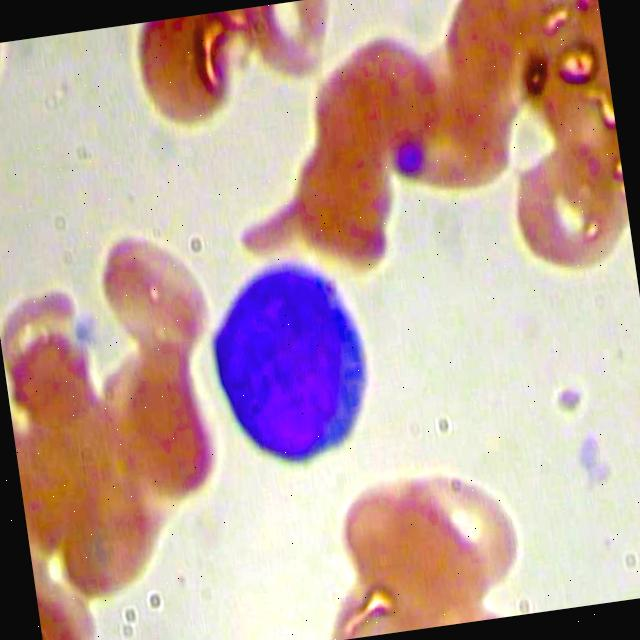RBC: (387, 452, 537, 605), (504, 128, 632, 280), (90, 213, 219, 363)
WBC: (191, 238, 397, 480)
